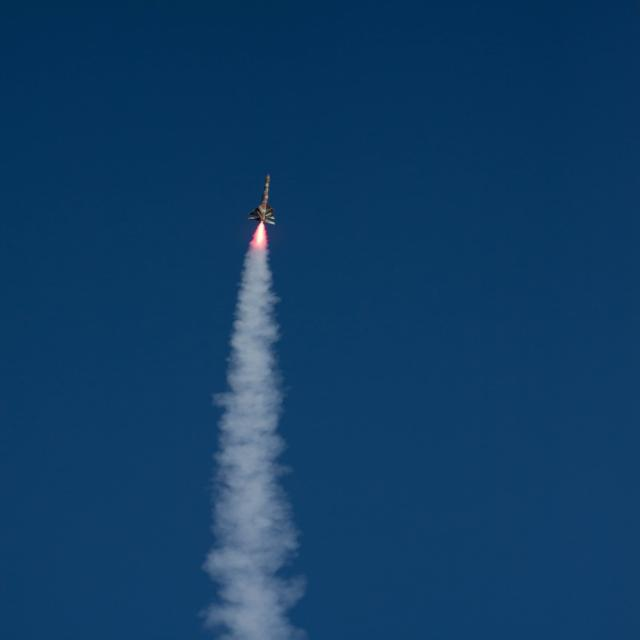Rocket: (247, 173, 277, 226)
